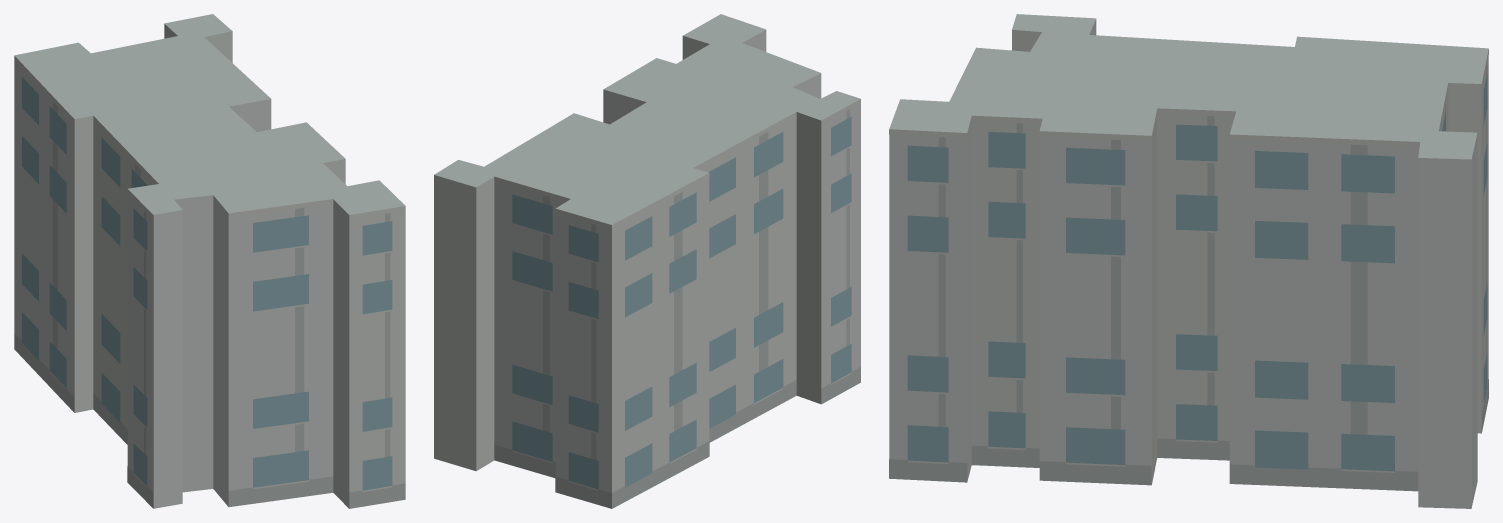
Rendered from survey-upis-32800270.glb.
3 renders of one model, left to right at view 1: azimuth 30°, elevation 25°; view 2: azimuth 150°, elevation 25°; view 3: azimuth 270°, elevation 25°, orthographic. The views are drawn at different scales.
Visible parts, largest first — view 1: survey-upis-32800270.tmp; view 2: survey-upis-32800270.tmp; view 3: survey-upis-32800270.tmp.
Boxes of the visible parts, x1=… form: survey-upis-32800270.tmp: x1=14, y1=14, x2=405, y2=508; survey-upis-32800270.tmp: x1=434, y1=14, x2=860, y2=508; survey-upis-32800270.tmp: x1=889, y1=14, x2=1488, y2=508.
Size of the model in its own units: 13.66 by 15.3 by 23.8.
